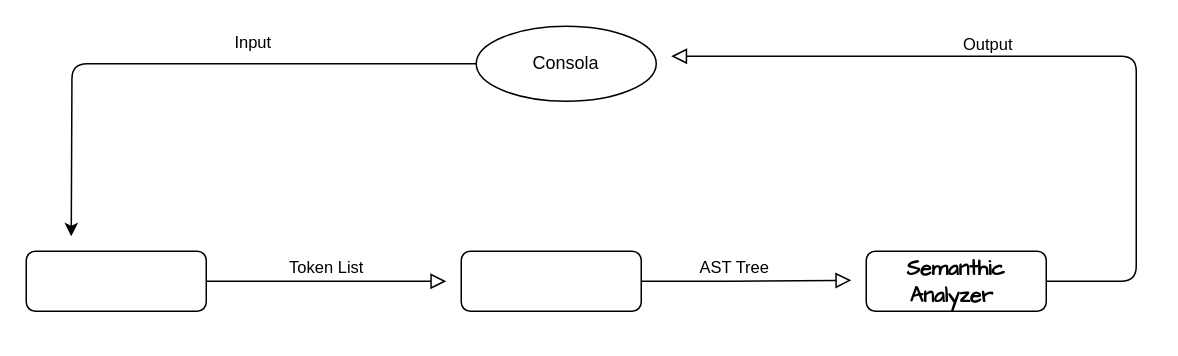
The diagram is 1178 pixels wide and 356 high, and some of its shapes have lost their labels. Each missing label, with the box of its shape:
Lexer: (25, 250, 206, 311)
Parser: (460, 250, 641, 311)
